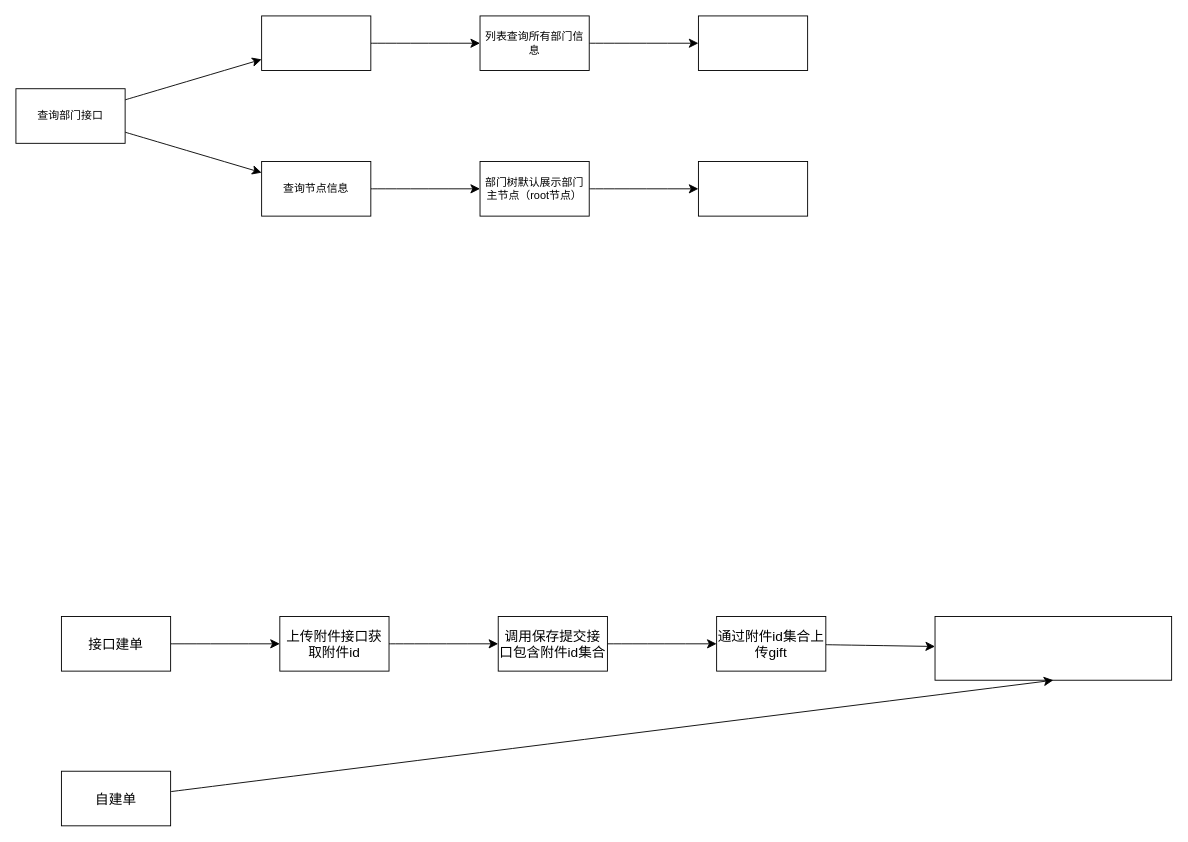
Image size: 1188x842. Some labels were removed from this diagram. Each missing label, with the centre of its shape:
"查询列表数据" goes at pixel 316 43.
"点击节点查询节点下所有部门数据" goes at pixel 753 43.
"点击节点树查询子节点信息" goes at pixel 753 188.
"生成PO组合主单附件以及拆单后对应明细的附件根据gifturl去重组装PO主单附件" goes at pixel 1053 648.
